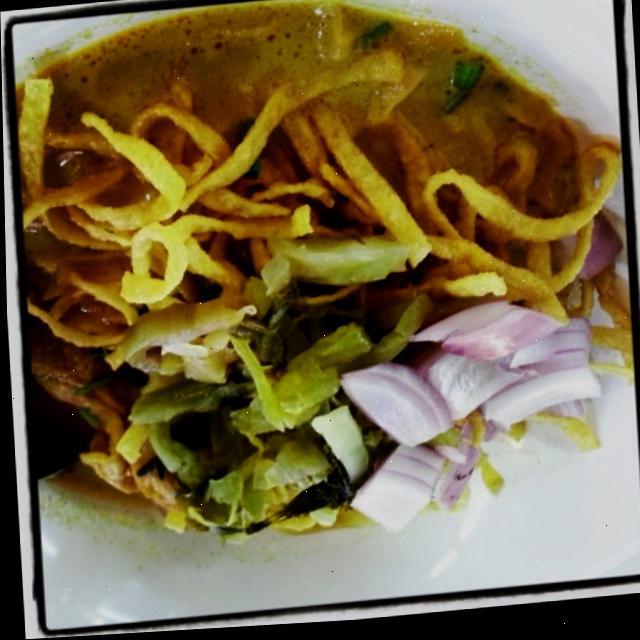面条主食: (18, 0, 629, 598)
